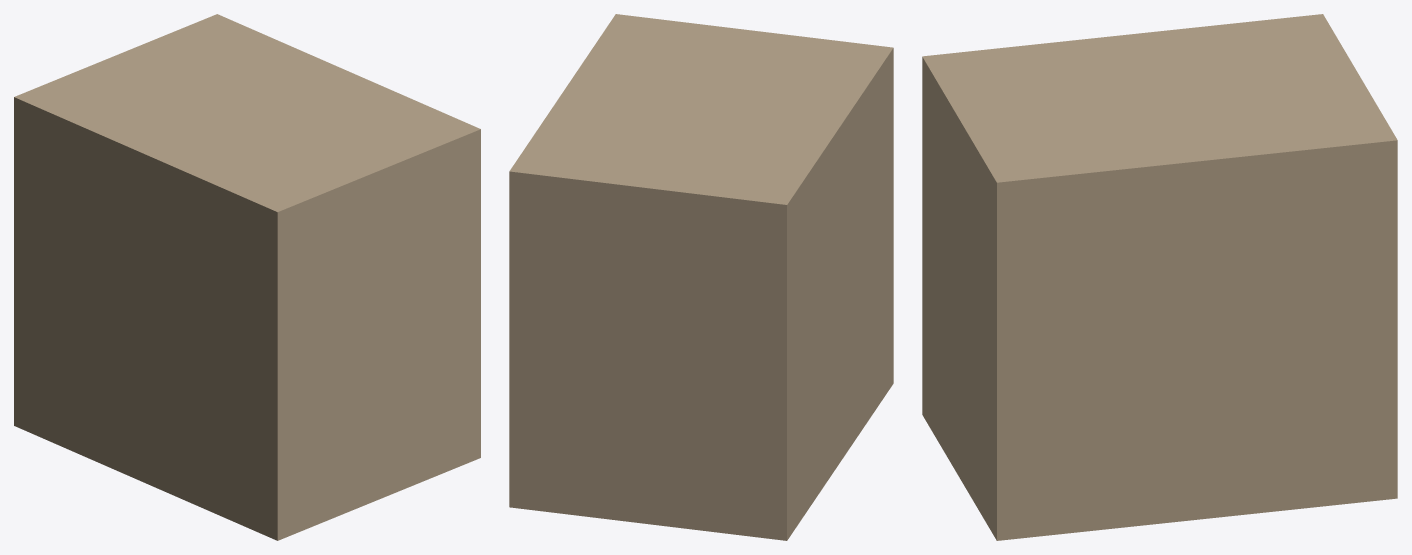
The model's file is bld_106456061.dae.
3 views of the same model, side by side, from view 1: azimuth 30°, elevation 25°; view 2: azimuth 150°, elevation 25°; view 3: azimuth 270°, elevation 25° (orthographic). The views are drawn at different scales.
Parts seen in each view (by area): view 1: bld_106456061; view 2: bld_106456061; view 3: bld_106456061.
Boxes of the visible parts, <box> form: bld_106456061: <box>14,14,480,540</box>; bld_106456061: <box>509,14,893,540</box>; bld_106456061: <box>922,14,1397,540</box>.
Size of the model in its own units: 8.08 by 9.62 by 8.
